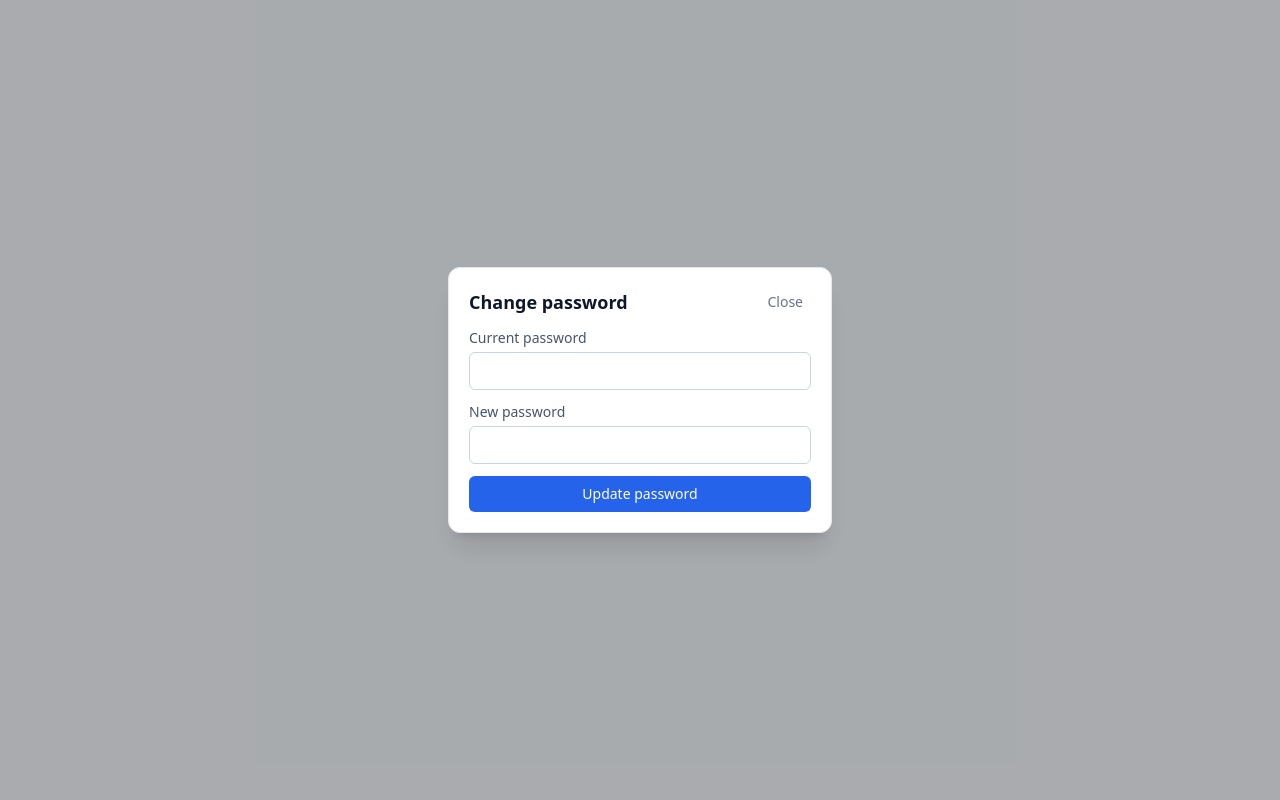
Test: AccountPanel › confirms a successful password change
In the password field labelled "Current password": (640, 371) [469,352,811,390], type "old"
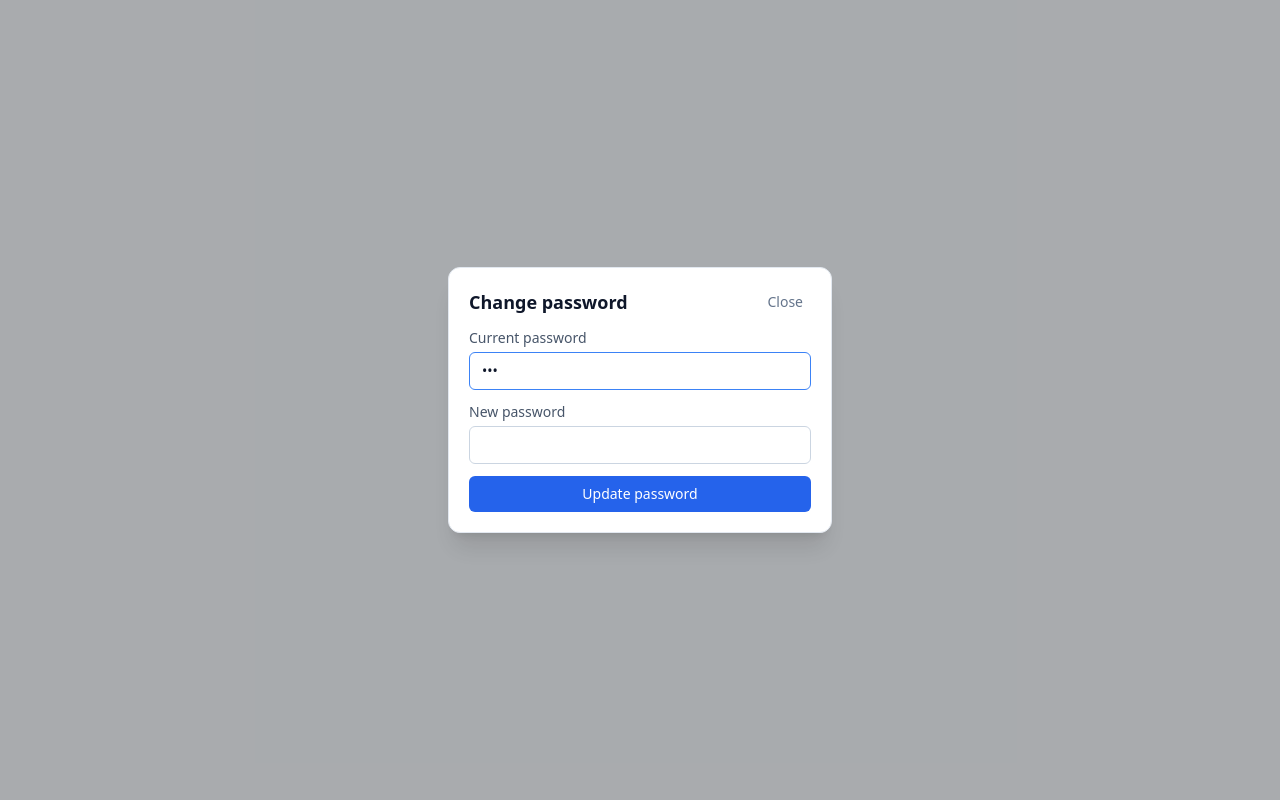
In the password field labelled "New password": (640, 445) [469,426,811,464], type "newpass1"
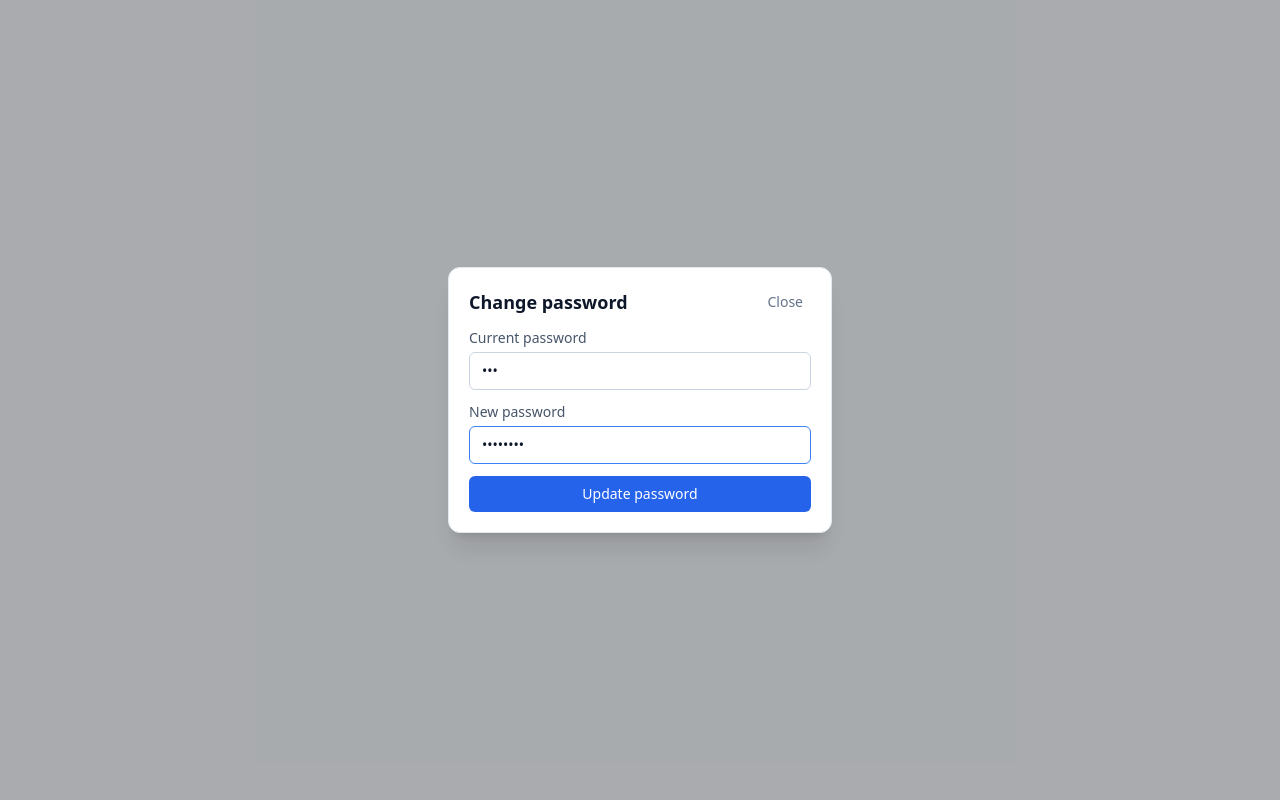
Click the button "Update password": click(640, 494) [469,476,811,512]
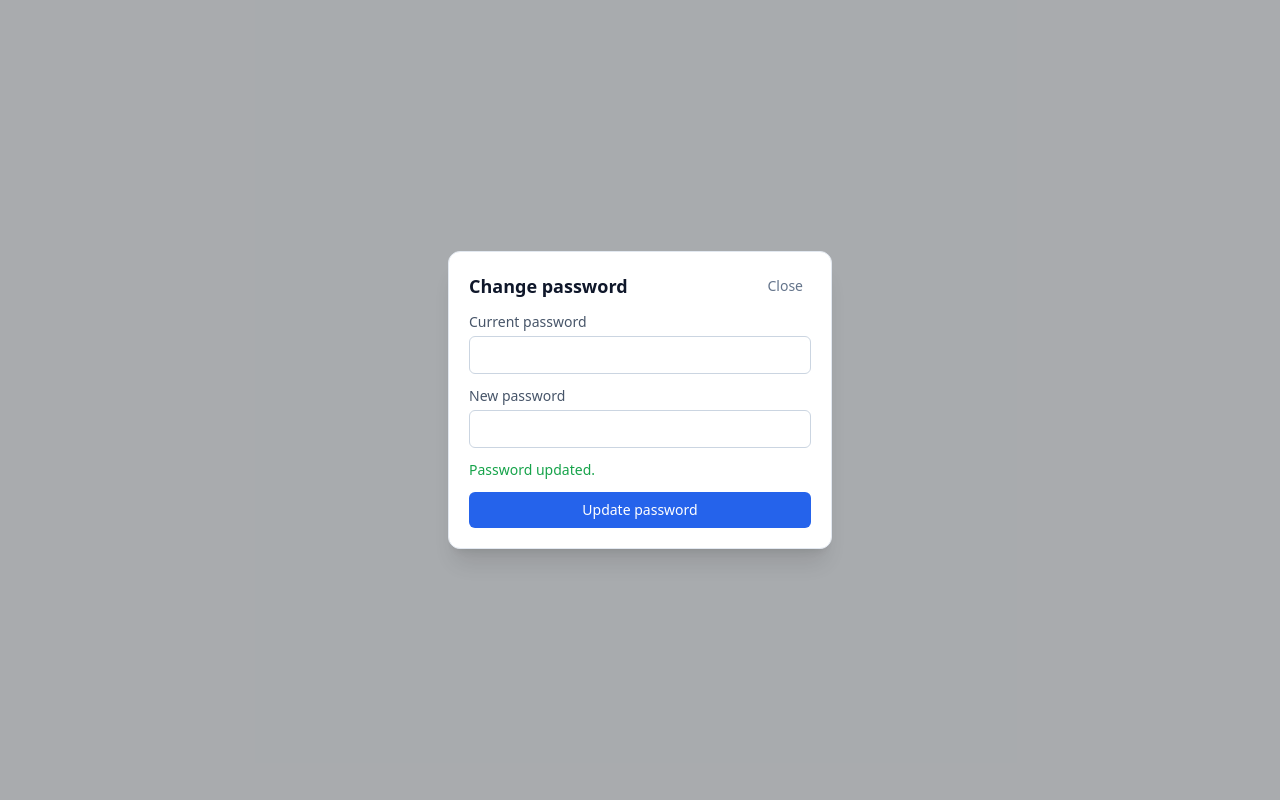
Check: the text "Password updated." is shown, box [469,460,595,479]
